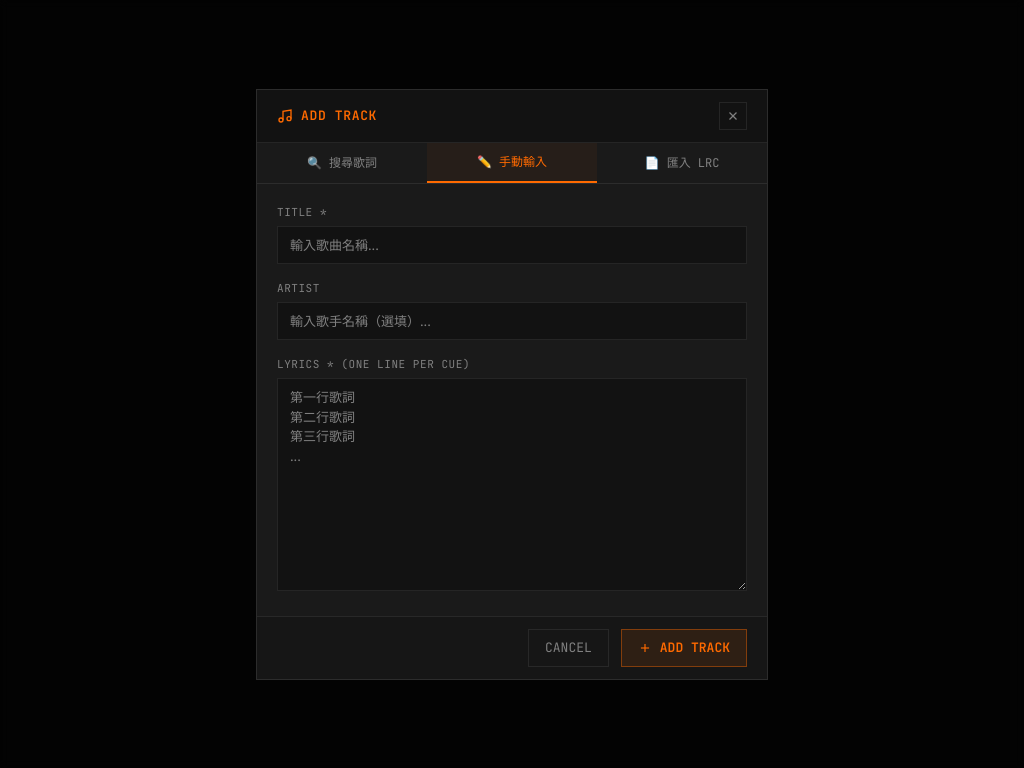
Test: AddSongModal › shows error when submitting with title but no lyrics
Type "Test Song" into the field with placeholder "輸入歌曲名稱..." at (512, 245), box [277,226,747,264]
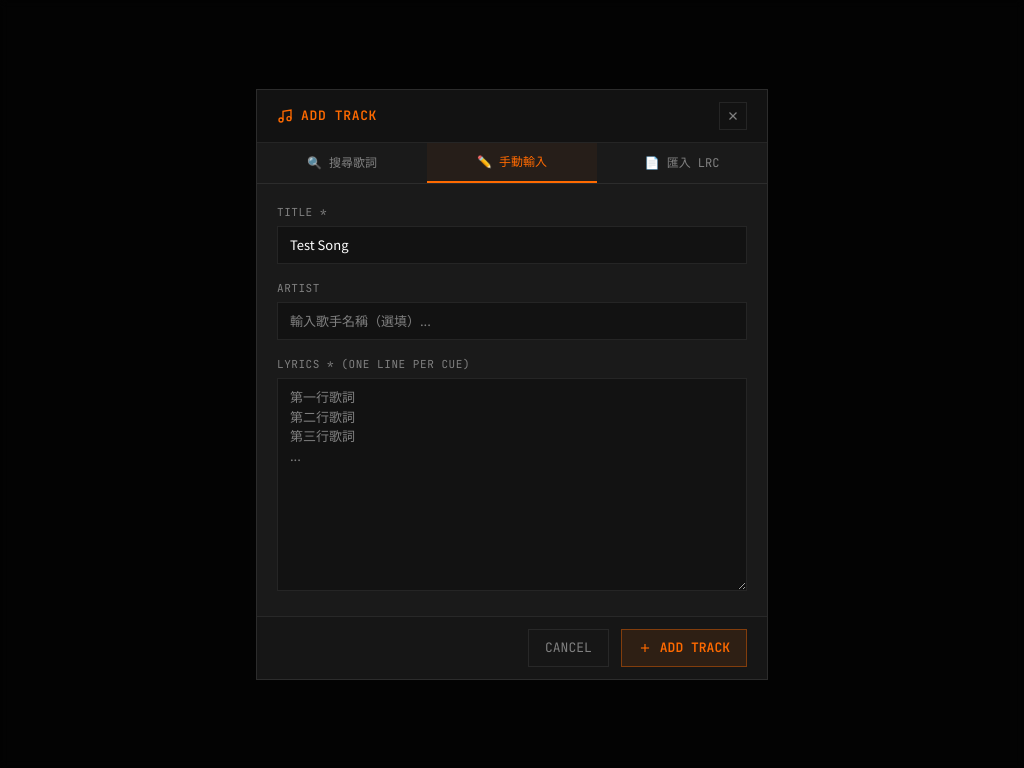
Click the button "ADD TRACK" at (684, 648), box [621,629,747,666]
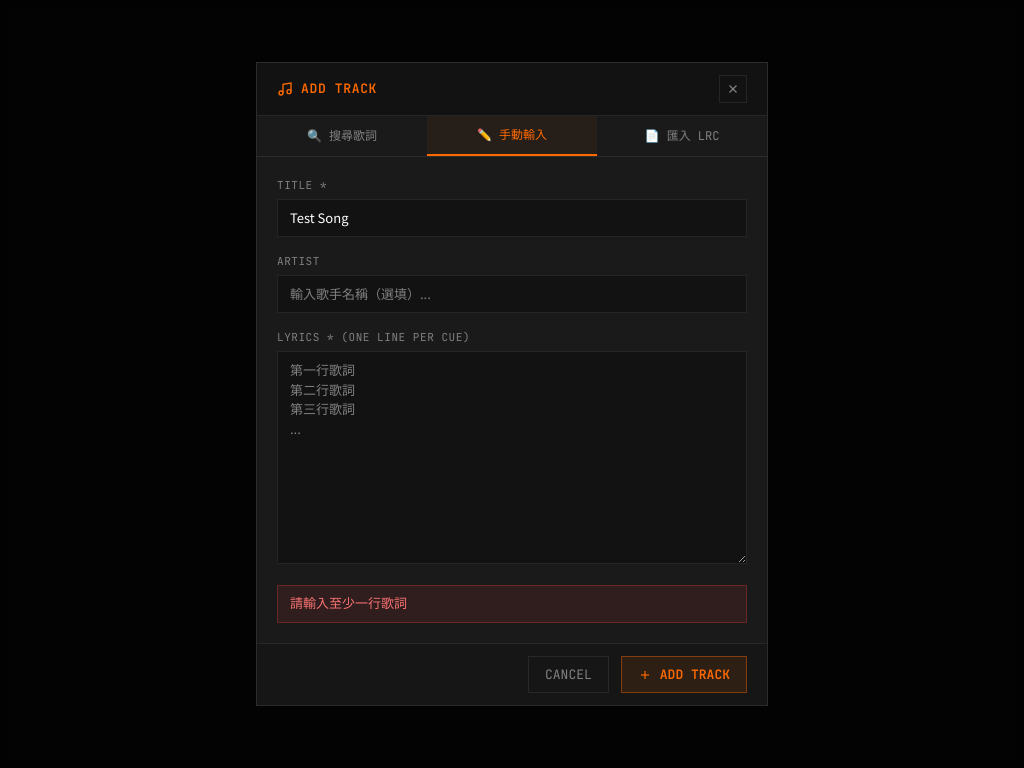
Result: the text "請輸入至少一行歌詞" is shown at [277,585,747,623]
